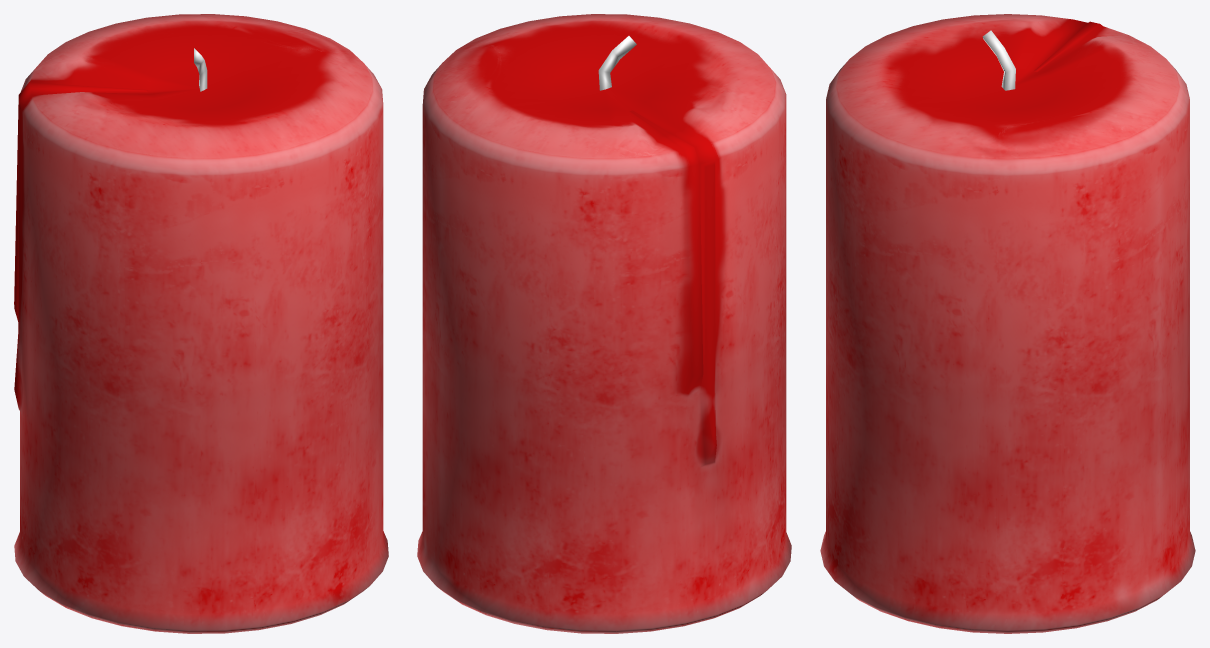
Rendered from candle.fbx.
3 views of the same model, side by side, from view 1: azimuth 30°, elevation 25°; view 2: azimuth 150°, elevation 25°; view 3: azimuth 270°, elevation 25° (orthographic).
Parts seen in each view (by area): view 1: candle.lod0; view 2: candle.lod0; view 3: candle.lod0.
Part boxes in pixels (x1,y1,x2,y2): candle.lod0: [14, 14, 388, 633]; candle.lod0: [417, 14, 791, 633]; candle.lod0: [820, 14, 1195, 633].
Size of what is drawn, in the model's own units: 87.58 by 134 by 87.58.
